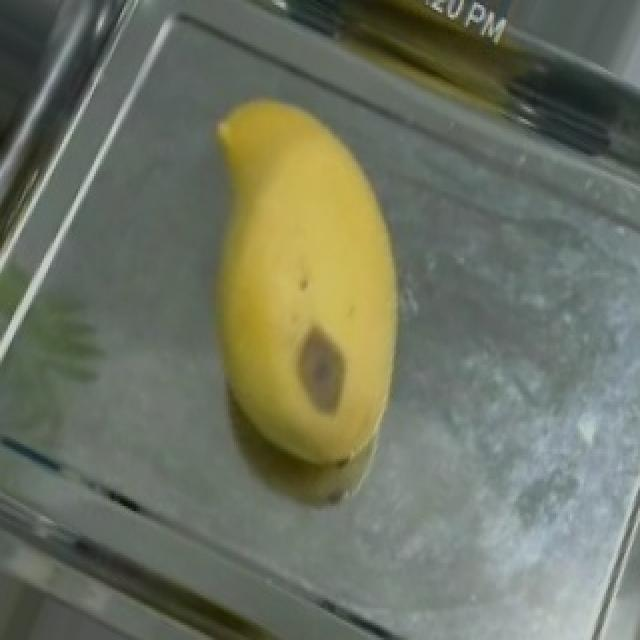fruit: (130, 47, 486, 466)
